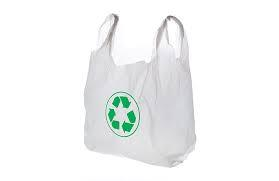plastic: (83, 13, 198, 170)
